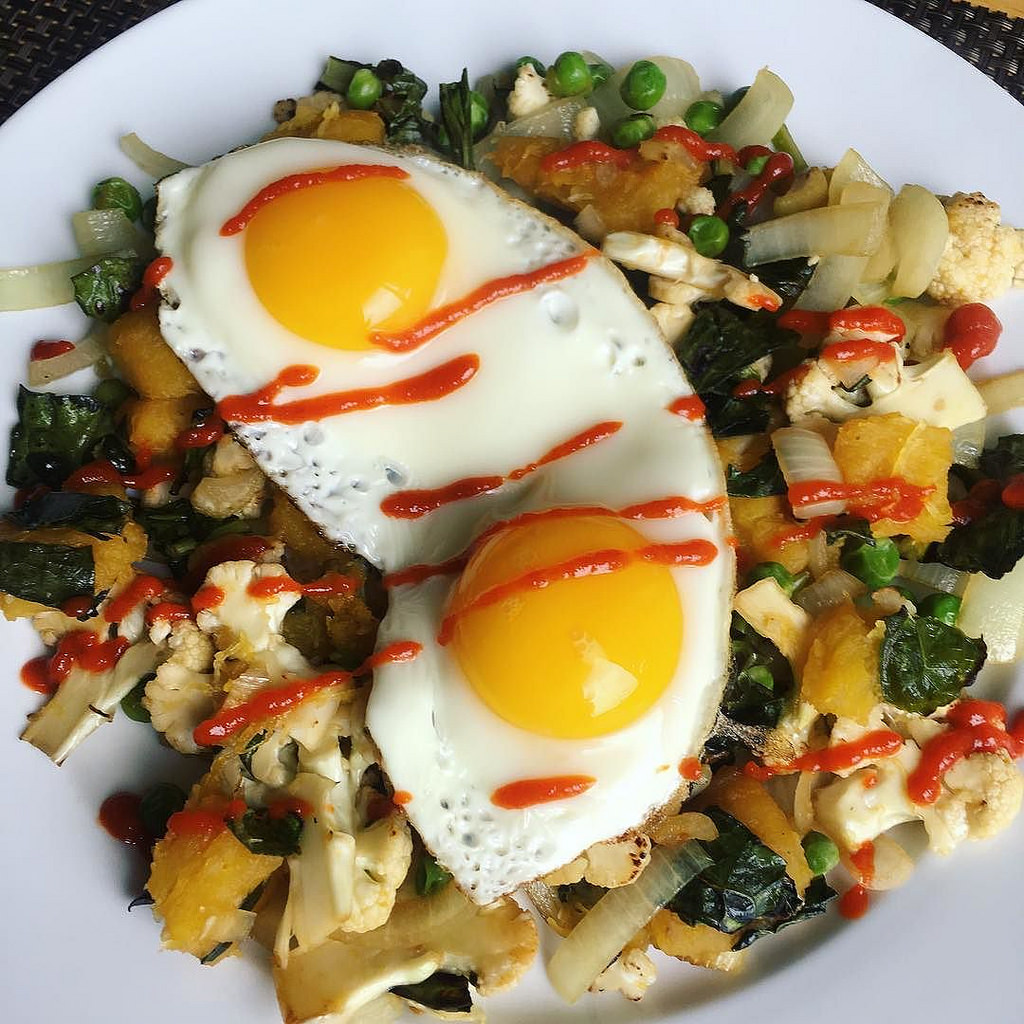fried egg: (186, 166, 701, 837)
